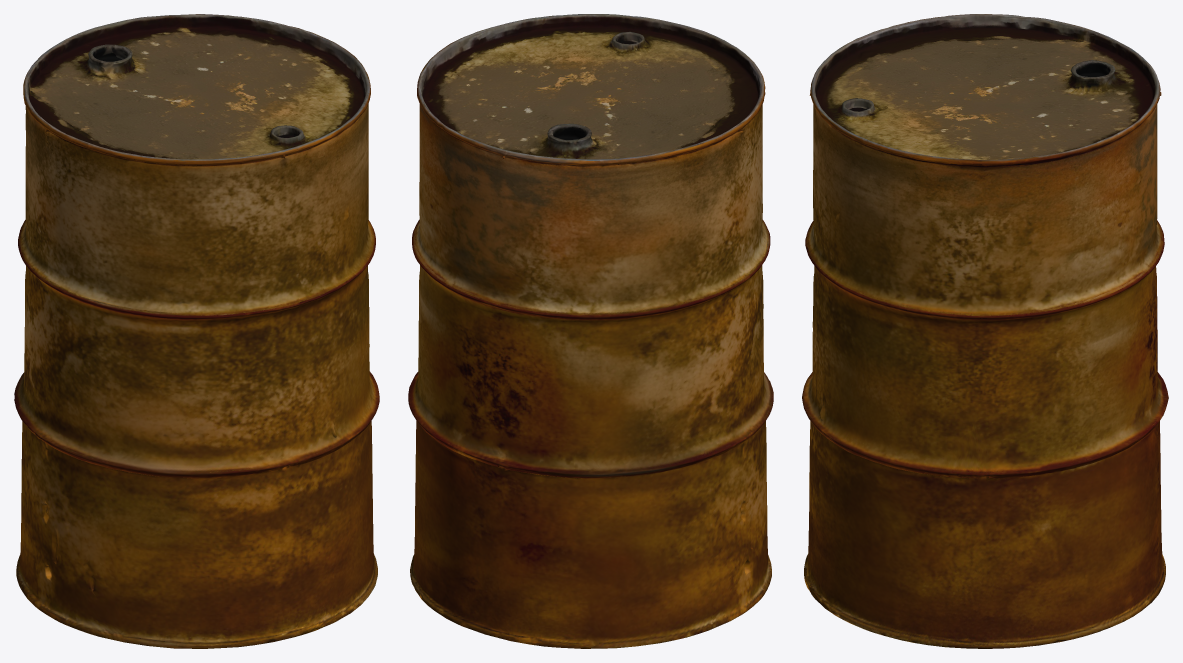
The model's file is lata.fbx.
The picture shows the model from 3 angles, left to right: view 1: azimuth 30°, elevation 25°; view 2: azimuth 150°, elevation 25°; view 3: azimuth 270°, elevation 25°; orthographic projection.
Parts seen in each view (by area): view 1: tripo_node_ed881181; view 2: tripo_node_ed881181; view 3: tripo_node_ed881181.
Boxes of the visible parts, x1,y1,x2,y2 form: tripo_node_ed881181: (14,14,379,648); tripo_node_ed881181: (408,14,773,648); tripo_node_ed881181: (802,14,1168,648).
Bounding box in the file's own units: 0.6815 × 0.9999 × 0.6816.
Materials: 1 (1 with a texture image).
